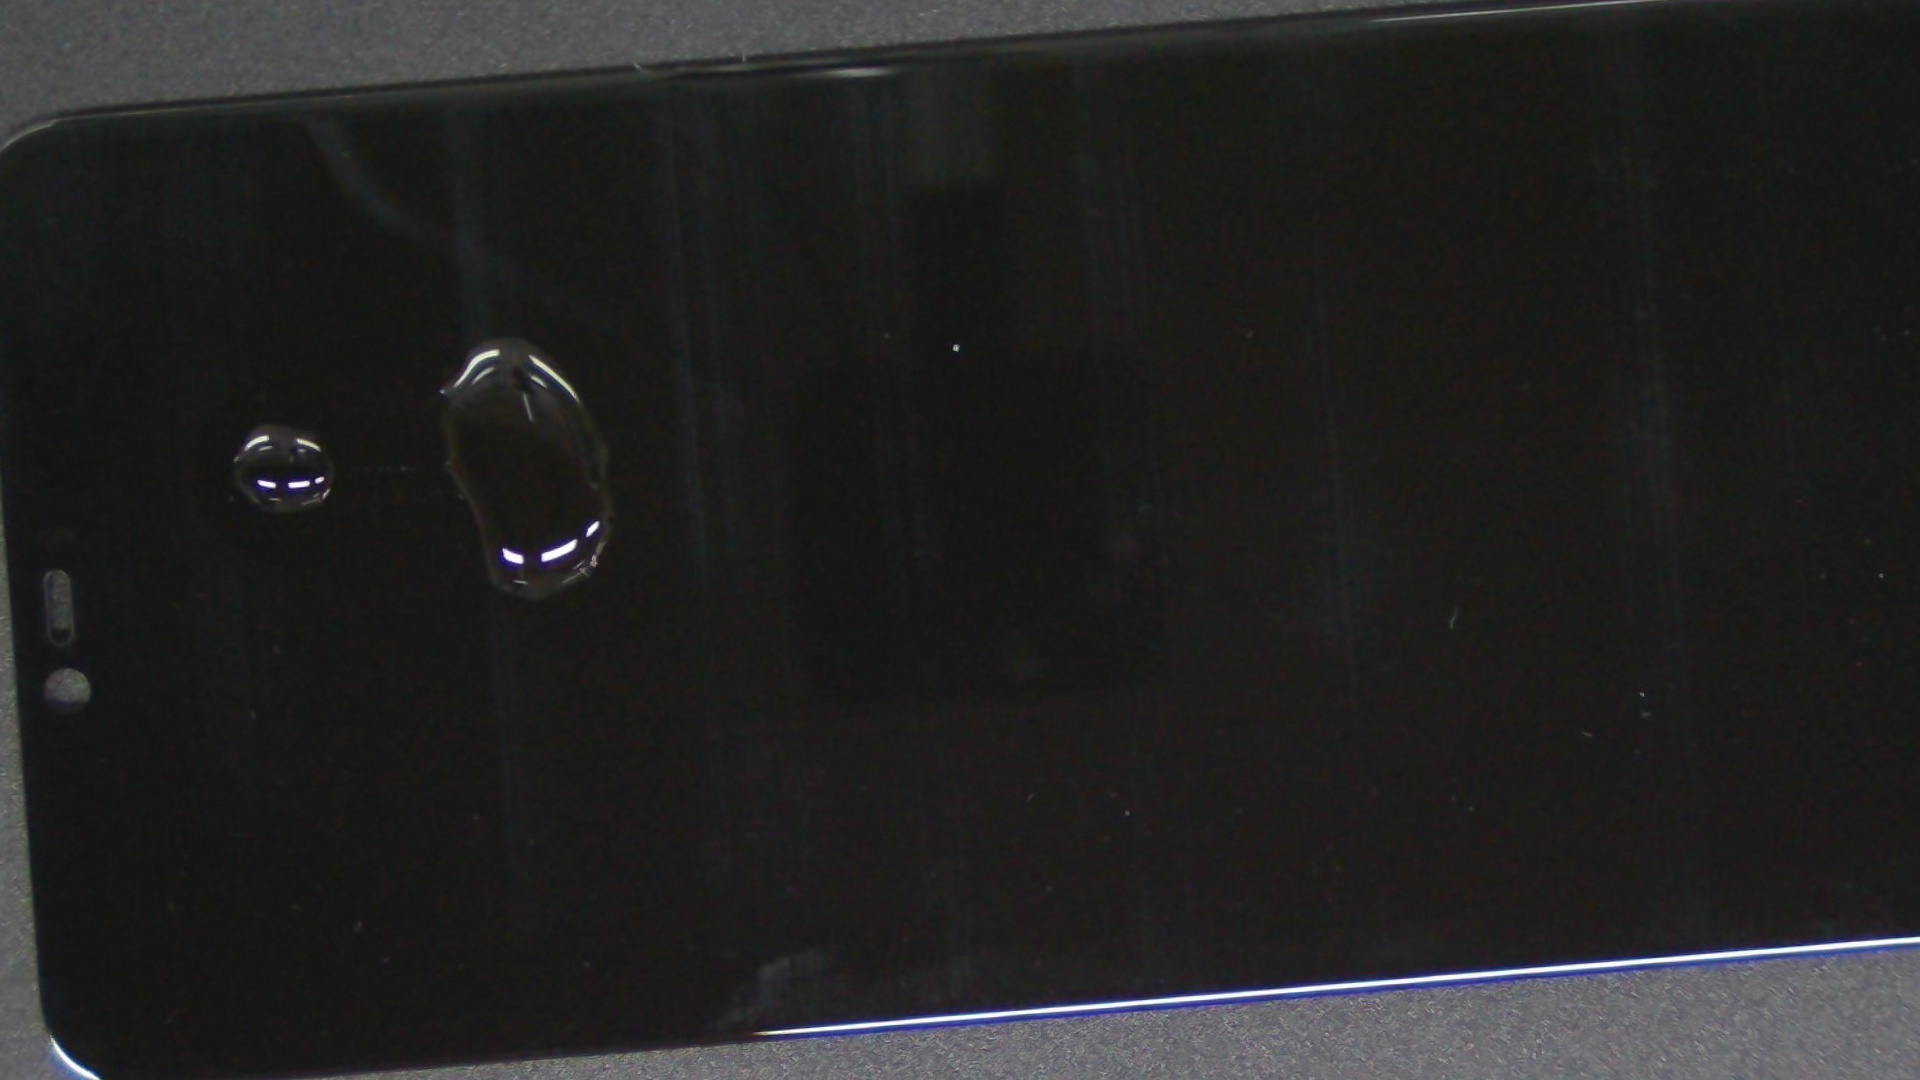oil: (184, 123, 825, 547), (63, 182, 457, 665)
